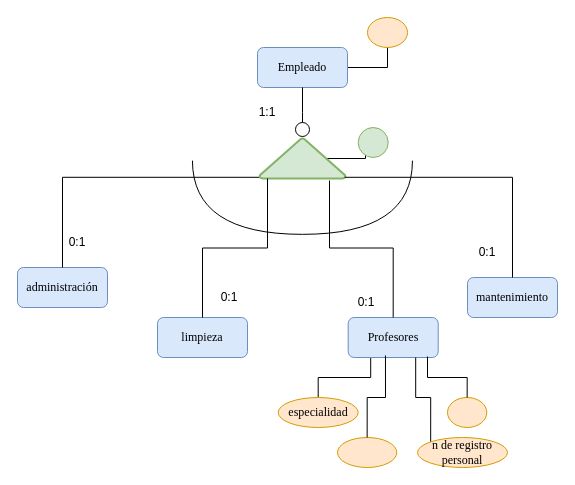
The diagram is 575 pixels wide and 485 high, and some of its shapes have lost their labels. Here are the shapes that lost their labels. From the top down, the centre of each, then its label:
At point 387,32: "id".
At point 372,142: "tipo".
At point 466,412: "f. alta".
At point 366,452: "cuerpo".
